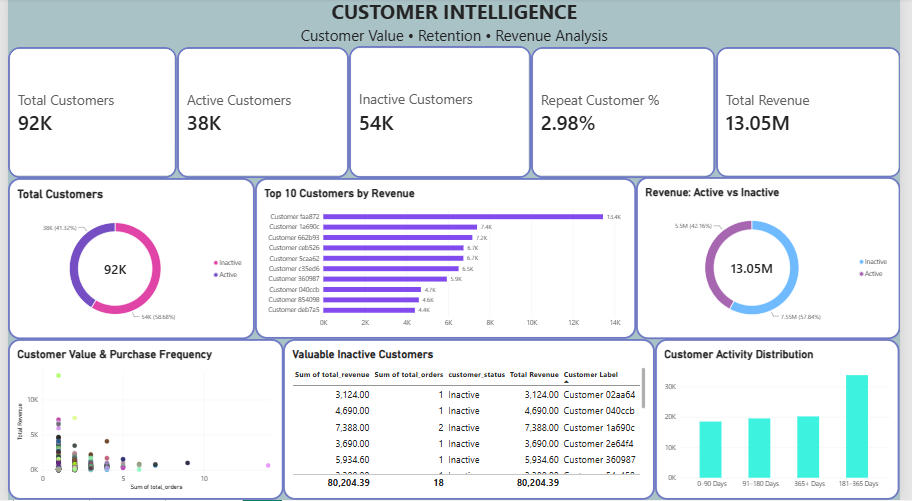

The page's visual inventory and layout, read from the dashboard file:
{"tool":"powerbi","page":{"name":"Page 1","canvas":[1920,1080],"ordinal":0},"visuals":[{"type":"cardVisual","fields":{"Data":["customer_analysis.Total Customers"]},"box":[0,105.1,363.2,281.9],"z":0},{"type":"cardVisual","fields":{"Data":["customer_analysis.Inactive Customers"]},"box":[732.8,102.2,392,284],"z":1000},{"type":"cardVisual","fields":{"Data":["customer_analysis.Repeat Customer %"]},"box":[1125.4,105.1,396.6,281.9],"z":2000},{"type":"cardVisual","fields":{"Data":["customer_analysis.Total Revenue"]},"box":[1522.4,105.1,397.6,281.2],"z":3000},{"type":"cardVisual","fields":{"Data":["customer_analysis.Active Customers"]},"box":[363.2,105.1,370.4,281.9],"z":4000},{"type":"donutChart","title":"Total Customers","fields":{"Category":["customer_analysis.customer_status"],"Y":["customer_analysis.Total Customers"]},"box":[0,386.3,531.1,346.5],"z":5000},{"type":"clusteredBarChart","title":"Top 10 Customers by Revenue","fields":{"Category":["customer_analysis.Customer Label"],"Y":["customer_analysis.Total Revenue"]},"box":[531.4,387.3,819.7,346.4],"z":6000},{"type":"scatterChart","title":"Customer Value & Purchase Frequency","fields":{"Series":["customer_analysis.customer_unique_id"],"X":["Sum(customer_analysis.total_orders)"],"Y":["customer_analysis.Total Revenue"]},"box":[0,733.5,592.6,346.5],"z":7000},{"type":"tableEx","title":"Valuable Inactive Customers","fields":{"Values":["Sum(customer_analysis.total_revenue)","Sum(customer_analysis.total_orders)","customer_analysis.customer_status","customer_analysis.Total Revenue","customer_analysis.Customer Label"]},"box":[592.6,733.5,800.4,346.5],"z":8000},{"type":"donutChart","title":"Revenue: Active vs Inactive","fields":{"Category":["customer_analysis.customer_status"],"Y":["customer_analysis.Total Revenue"]},"box":[1350,384.7,568.7,348.8],"z":9000},{"type":"textbox","box":[0,0,1920,105.1],"z":10000},{"type":"clusteredColumnChart","title":"Customer Activity Distribution","fields":{"Category":["customer_analysis.Customer Activity"],"Y":["customer_analysis.Total Customers"]},"box":[1393,733.5,525.7,346.5],"z":11000}]}

Visuals, with their boxes in screenshot pixels (x1, y1, x2, y2), scaled from the page's 1920x1080 canvas onto the 912x501 screenshot:
cardVisual - customer_analysis.Total Customers: 0, 49, 173, 180
cardVisual - customer_analysis.Inactive Customers: 348, 47, 534, 179
cardVisual - customer_analysis.Repeat Customer %: 535, 49, 723, 180
cardVisual - customer_analysis.Total Revenue: 723, 49, 911, 179
cardVisual - customer_analysis.Active Customers: 173, 49, 348, 180
"Total Customers" donutChart: 0, 179, 252, 340
"Top 10 Customers by Revenue" clusteredBarChart: 252, 180, 642, 340
"Customer Value & Purchase Frequency" scatterChart: 0, 340, 281, 500
"Valuable Inactive Customers" tableEx: 281, 340, 662, 500
"Revenue: Active vs Inactive" donutChart: 641, 178, 911, 340
textbox: 0, 0, 911, 49
"Customer Activity Distribution" clusteredColumnChart: 662, 340, 911, 500
